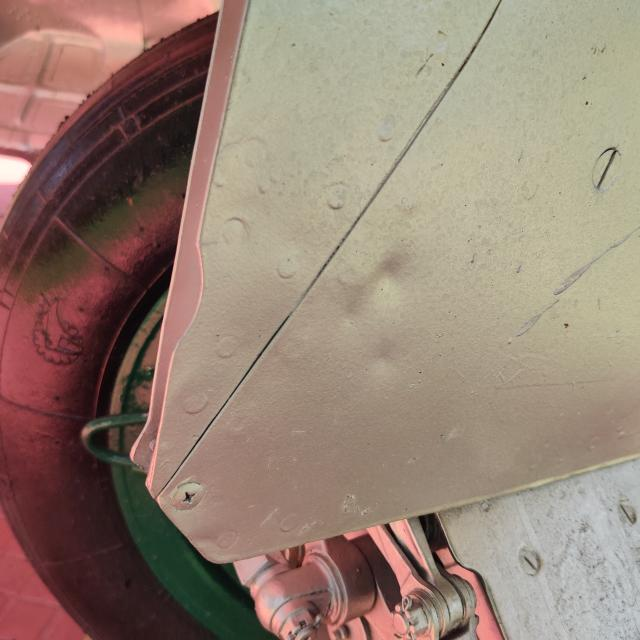dent: (319, 230, 430, 340)
